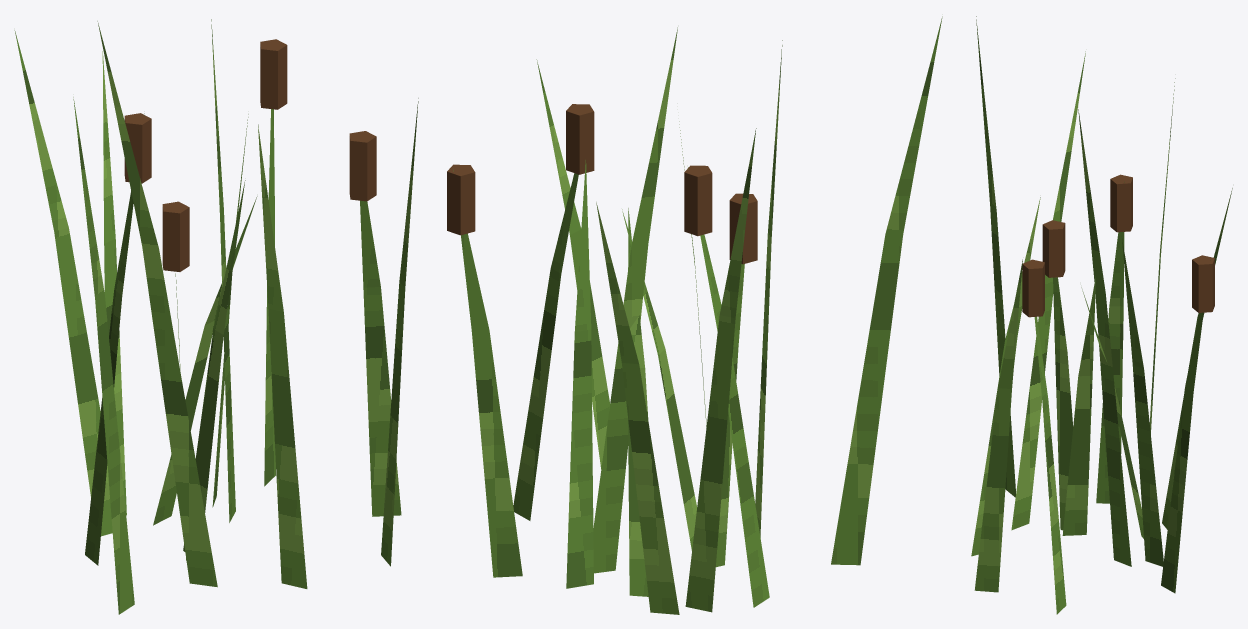
File: reeds0.glb
The picture shows the model from 3 angles, left to right: view 1: azimuth 30°, elevation 25°; view 2: azimuth 150°, elevation 25°; view 3: azimuth 270°, elevation 25°; orthographic projection. The views are drawn at different scales.
Parts seen in each view (by area): view 1: reeds0; view 2: reeds0; view 3: reeds0.
Boxes of the visible parts, x1,y1,x2,y2 form: reeds0: (14, 19, 418, 614); reeds0: (447, 16, 942, 614); reeds0: (971, 16, 1232, 614).
Bounding box in the file's own units: 1.48 × 2.07 × 1.09.
2 materials, 1 textured.
